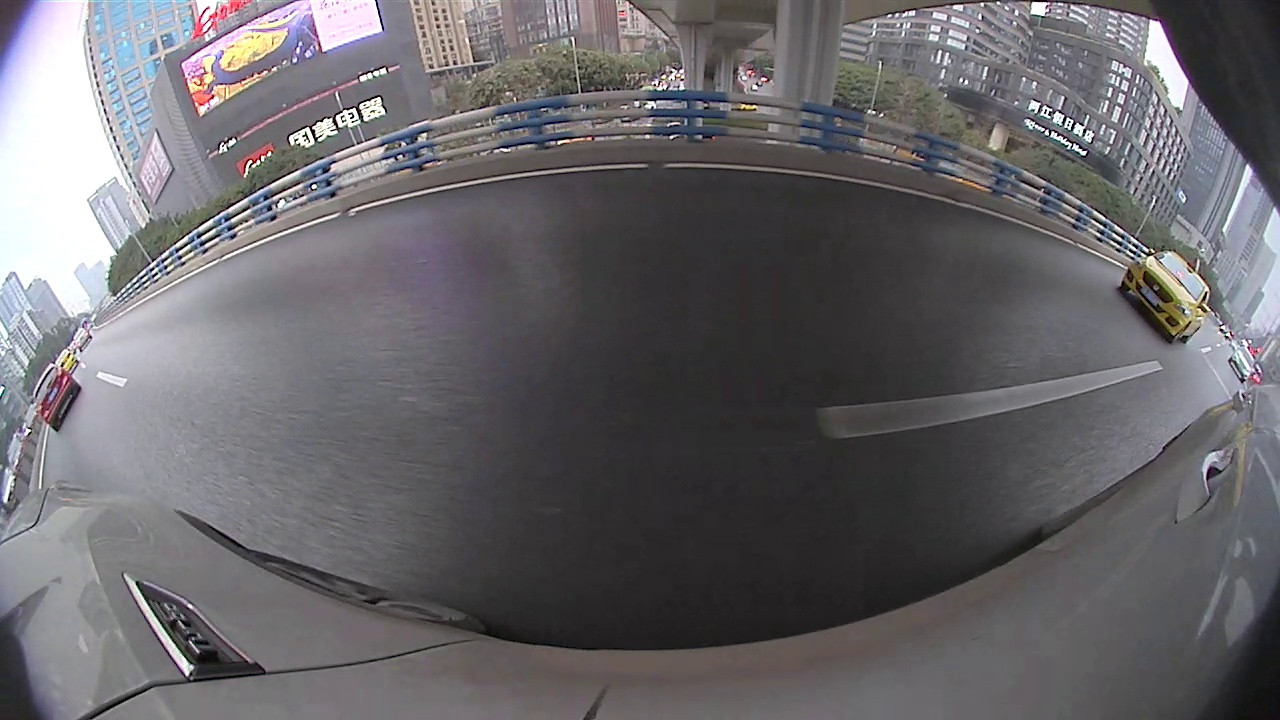car: (946, 164, 1278, 464), (371, 149, 540, 247), (618, 133, 722, 219), (751, 145, 865, 211), (863, 170, 934, 223), (561, 157, 599, 192), (721, 164, 756, 187)
front: (955, 224, 1011, 295), (524, 185, 541, 211), (751, 173, 764, 196)
rear: (1177, 355, 1275, 460), (477, 195, 497, 231), (790, 179, 809, 208), (872, 195, 891, 217)
